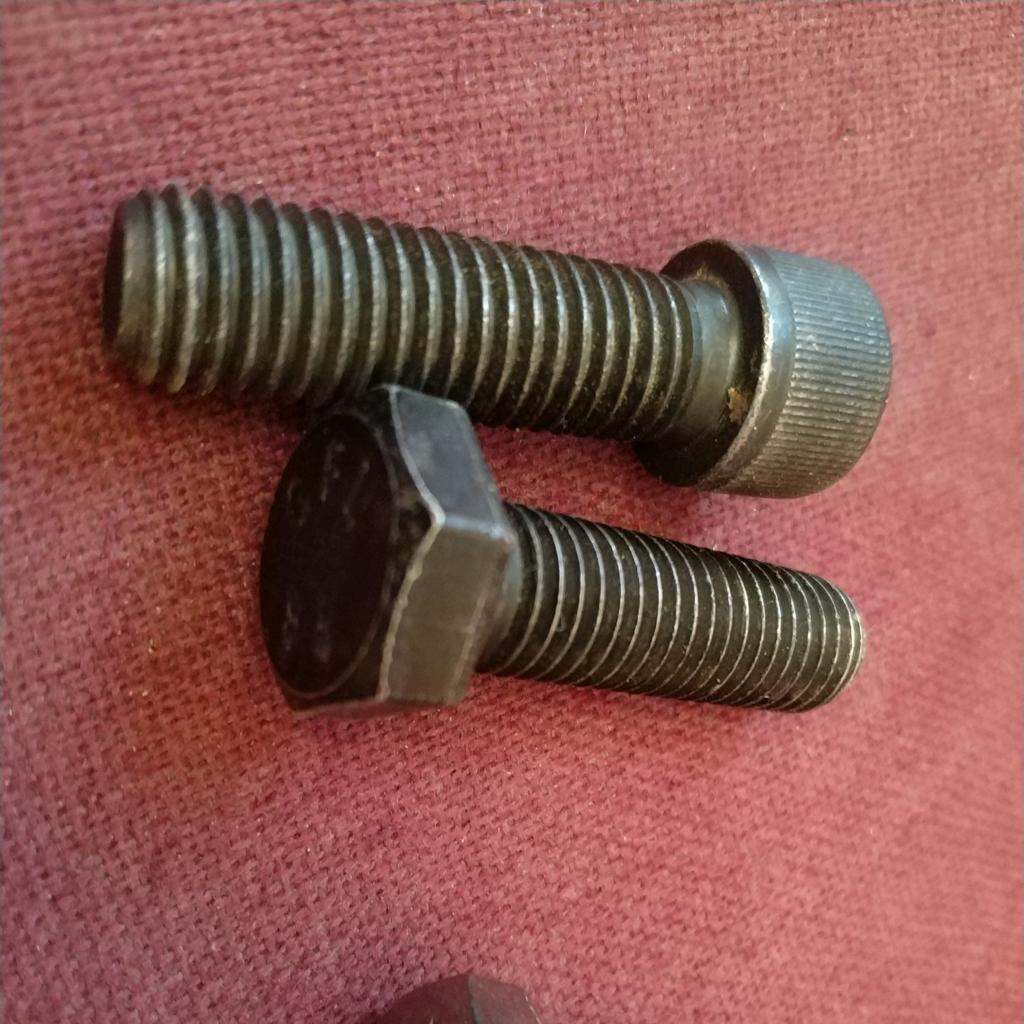screwtype1black: (89, 157, 897, 502)
screwtype2black: (257, 384, 865, 762)
screwtype2silver: (326, 919, 549, 1024)
